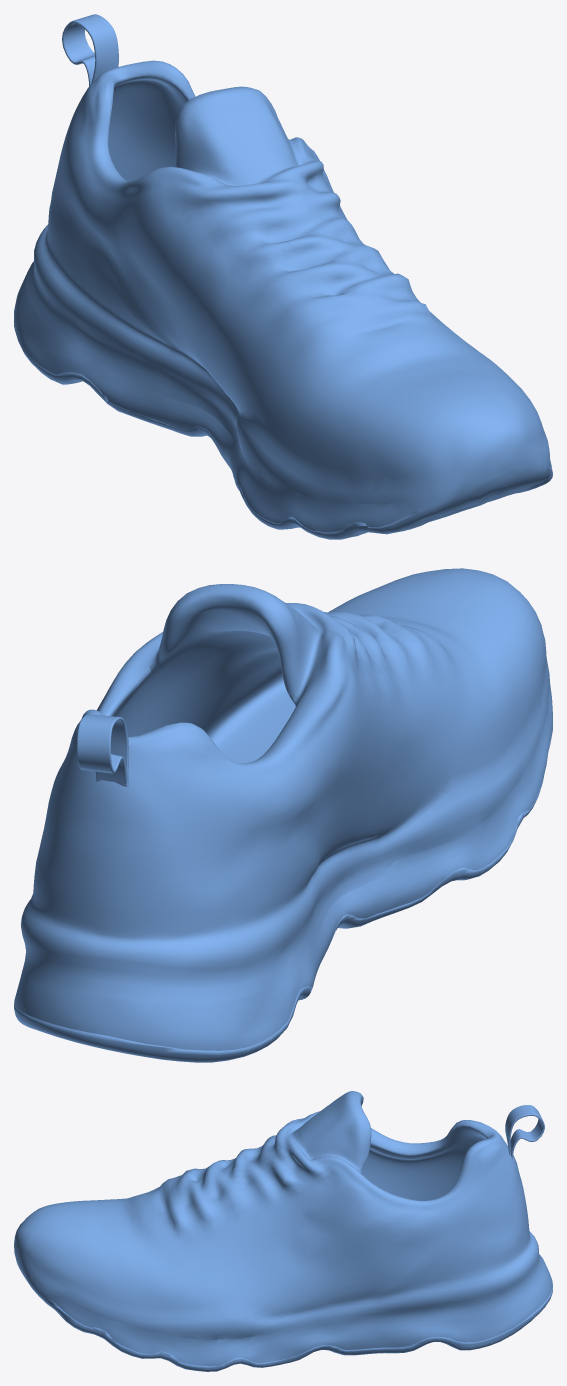
Rendered from basketball.glb.
3 views of the same model, one above another, from view 1: azimuth 30°, elevation 25°; view 2: azimuth 150°, elevation 25°; view 3: azimuth 270°, elevation 25° (orthographic). The views are drawn at different scales.
Parts seen in each view (by area): view 1: di; view 2: di; view 3: di.
Boxes of the visible parts, box(x1,y1,x2,y2) form: di: box(14, 14, 552, 539); di: box(14, 568, 552, 1062); di: box(14, 1091, 552, 1371).
Bounding box in the file's own units: 115 × 133 × 289.
